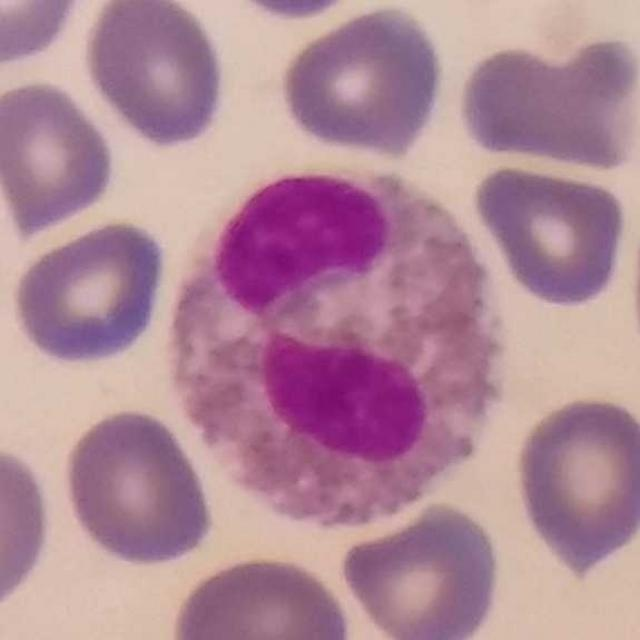Eosinophil: (161, 156, 517, 529)
RBC: (277, 10, 449, 170), (57, 404, 219, 571), (452, 34, 640, 170), (7, 216, 174, 369), (469, 160, 633, 312), (510, 390, 640, 576), (337, 497, 506, 640), (77, 0, 231, 151), (0, 74, 121, 239), (166, 550, 356, 640), (0, 438, 58, 622), (0, 0, 91, 70), (245, 0, 356, 24)
